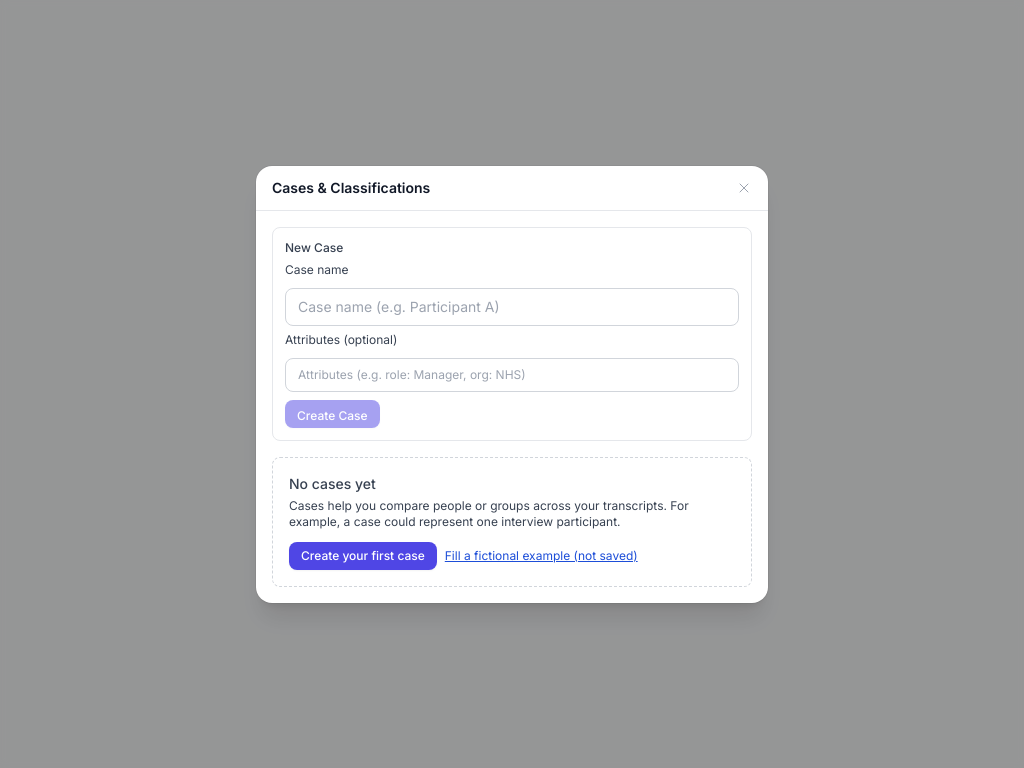
Test case: CaseManagerPanel first-use help › fills but never saves a clearly fictional example
Click the button "Fill a fictional example (not saved)". click: click(541, 556)
box: [445,542,638,570]
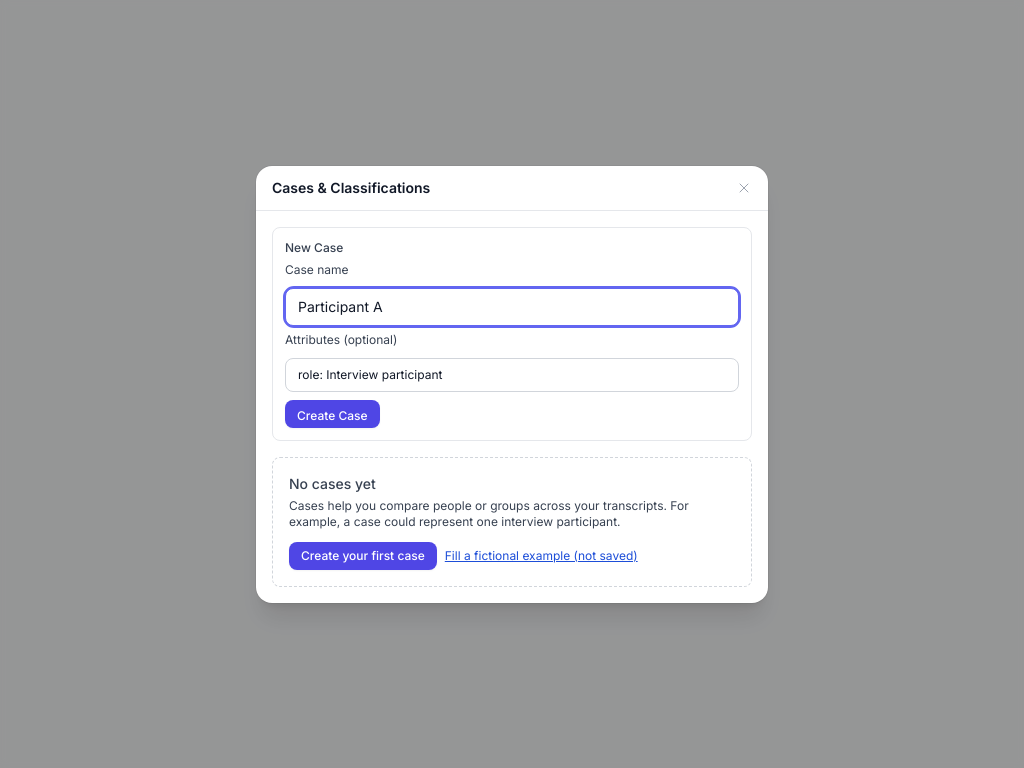
Now the field labelled "Case name" holds "Participant A", box [285,288,739,326]
Now the field labelled "Attributes (optional)" holds "role: Interview participant", box [285,358,739,392]
